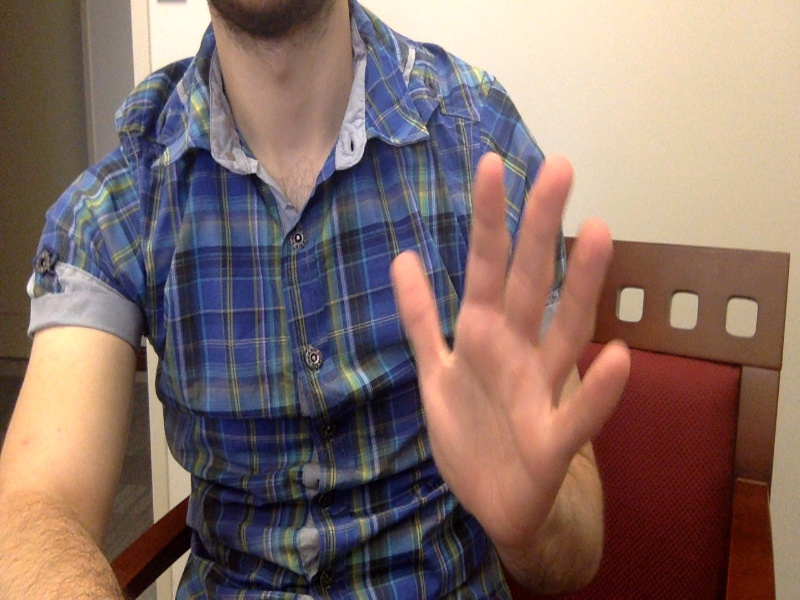5-hand: (390, 151, 633, 550)
